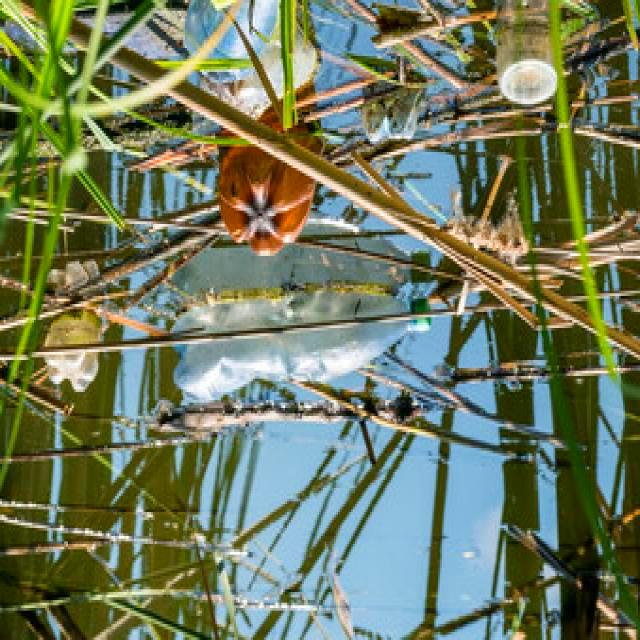Plastic: (172, 286, 435, 407), (212, 146, 322, 261), (489, 10, 564, 109), (41, 316, 109, 393)
Trash: (172, 0, 296, 84), (352, 88, 430, 144)
